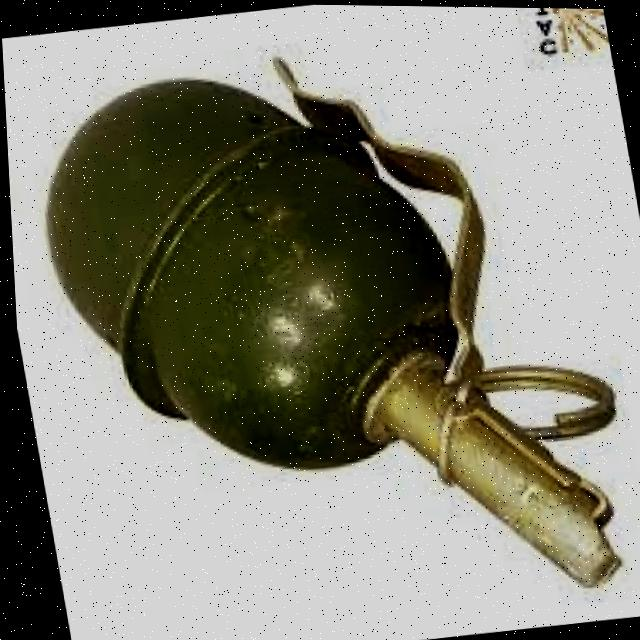grenade: (3, 0, 640, 640)
